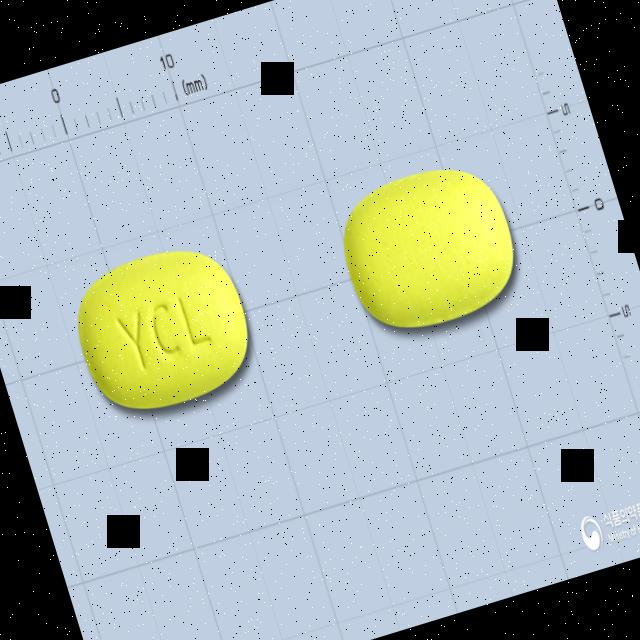Youngpoong Clarithromycin Tab: (60, 233, 264, 427)
